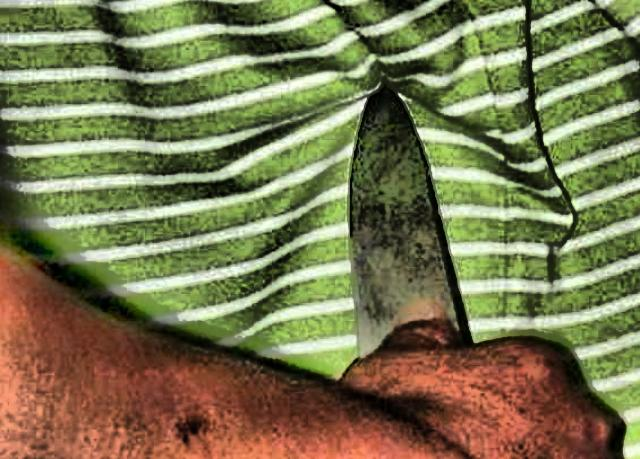knife: (332, 70, 630, 458)
